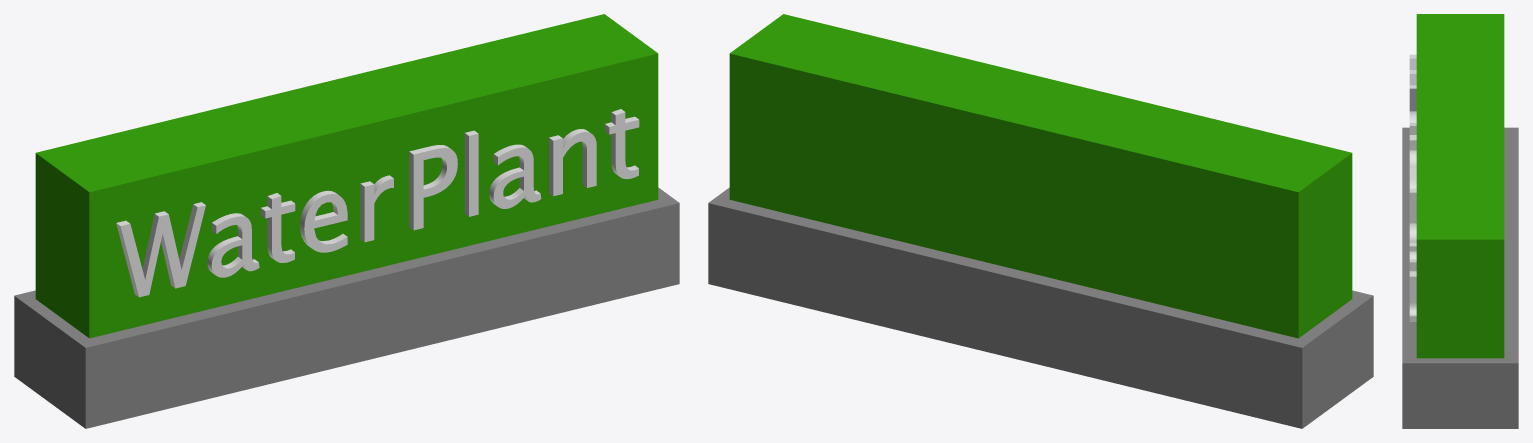
The model's file is EntranceSign.fbx.
3 views of the same model, side by side, from view 1: azimuth 30°, elevation 25°; view 2: azimuth 150°, elevation 25°; view 3: azimuth 270°, elevation 25° (orthographic). The views are drawn at different scales.
Parts seen in each view (by area): view 1: pCube2, pCube3, typeMesh1; view 2: pCube2, pCube3; view 3: pCube2, pCube3, typeMesh1.
Boxes of the visible parts, box(x1,y1,x2,y2) form: pCube2: box(35, 14, 658, 338); pCube3: box(14, 187, 679, 428); typeMesh1: box(116, 109, 639, 297); pCube2: box(729, 14, 1352, 338); pCube3: box(708, 187, 1373, 428); pCube2: box(1416, 14, 1504, 358); pCube3: box(1402, 127, 1518, 428); typeMesh1: box(1409, 54, 1416, 321).
Size of the model in its own units: 2.74 by 1 by 0.5709.
